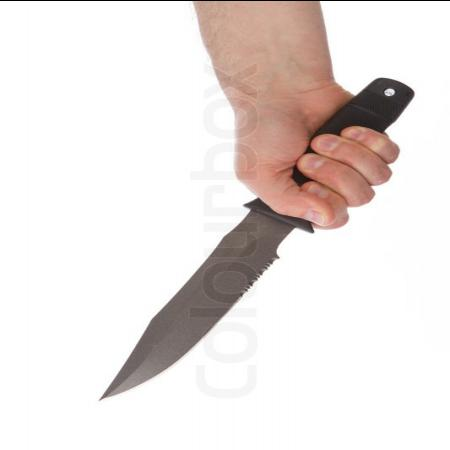long weapon: (82, 135, 380, 410)
